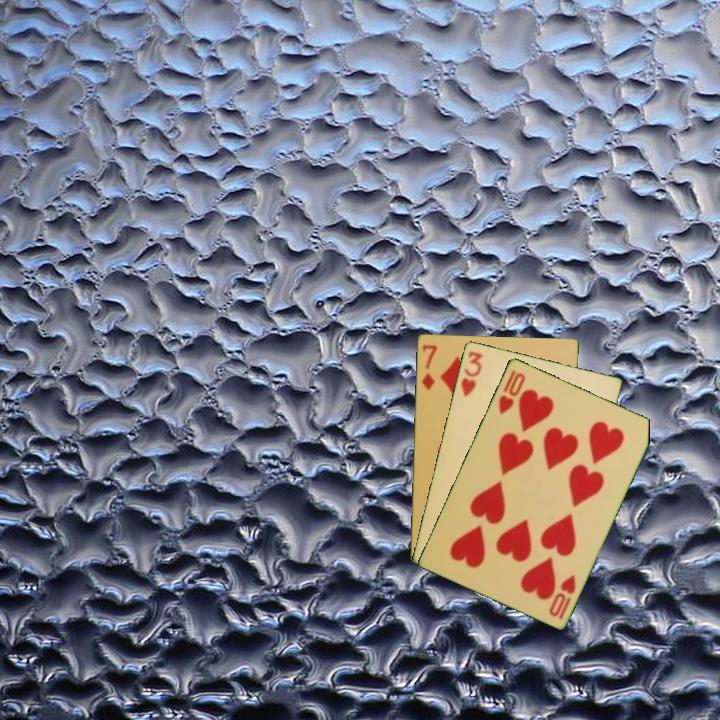10h: (545, 571, 579, 622), (495, 366, 528, 417)
3h: (457, 347, 485, 399)
7d: (418, 341, 439, 393)
